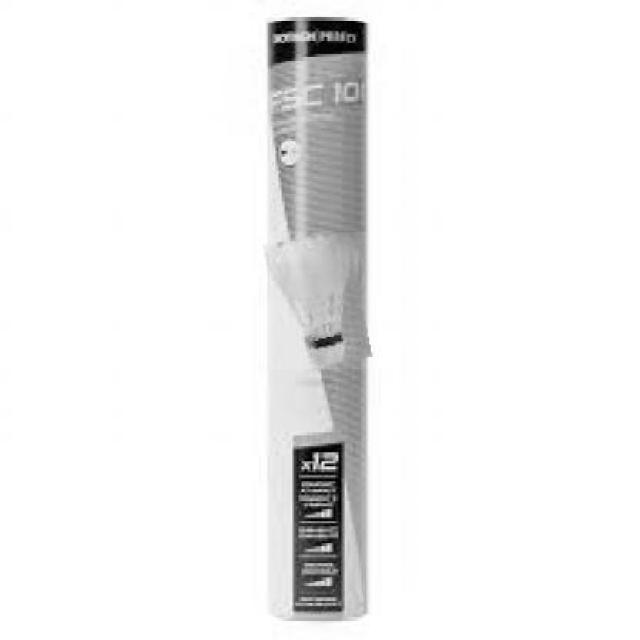Shuttlecock: (269, 232, 368, 370)
